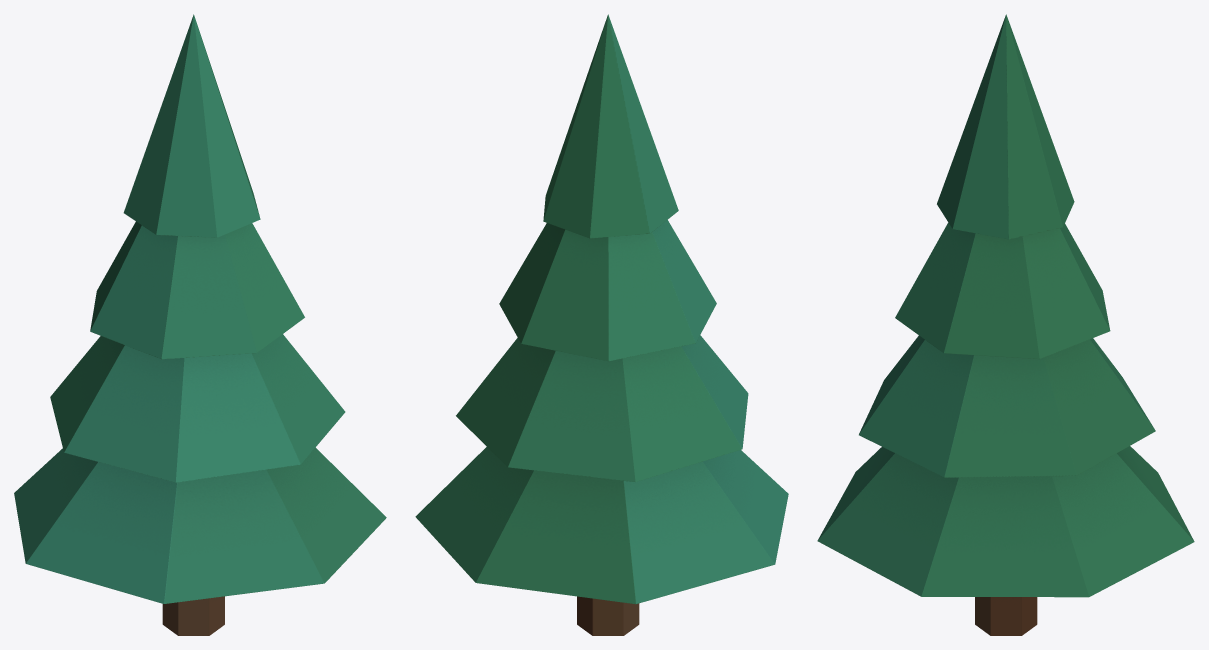
File: scenery_pine_1.fbx
3 views of the same model, side by side, from view 1: azimuth 30°, elevation 25°; view 2: azimuth 150°, elevation 25°; view 3: azimuth 270°, elevation 25° (orthographic).
Parts seen in each view (by area): view 1: scenery_pine_1_body; view 2: scenery_pine_1_body; view 3: scenery_pine_1_body.
Boxes of the visible parts, bbox=[...] form: scenery_pine_1_body: bbox=[14, 14, 386, 635]; scenery_pine_1_body: bbox=[415, 14, 788, 635]; scenery_pine_1_body: bbox=[817, 14, 1194, 635].
Bounding box in the file's own units: 767 × 1403 × 786.
1 material, 1 textured.
